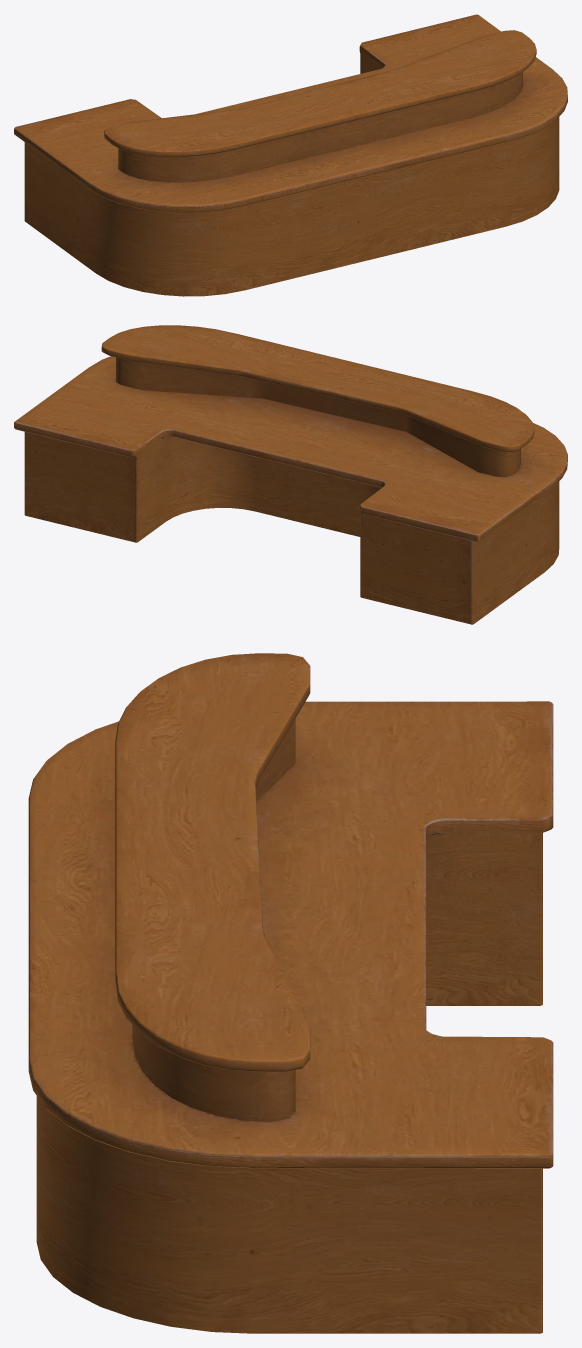
Rendered from prop-library-table.glb.
3 renders of one model, top to bottom at view 1: azimuth 30°, elevation 25°; view 2: azimuth 150°, elevation 25°; view 3: azimuth 270°, elevation 25°, orthographic. The views are drawn at different scales.
Visible parts, largest first — view 1: LibraryTable_2; view 2: LibraryTable_2; view 3: LibraryTable_2.
Part boxes in pixels (box(x1,y1,x2,y2)): LibraryTable_2: box(14, 14, 567, 296); LibraryTable_2: box(14, 325, 567, 624); LibraryTable_2: box(28, 653, 553, 1333).
Size of the model in its own units: 414 by 110 by 202.
Materials: 1 (1 with a texture image).
